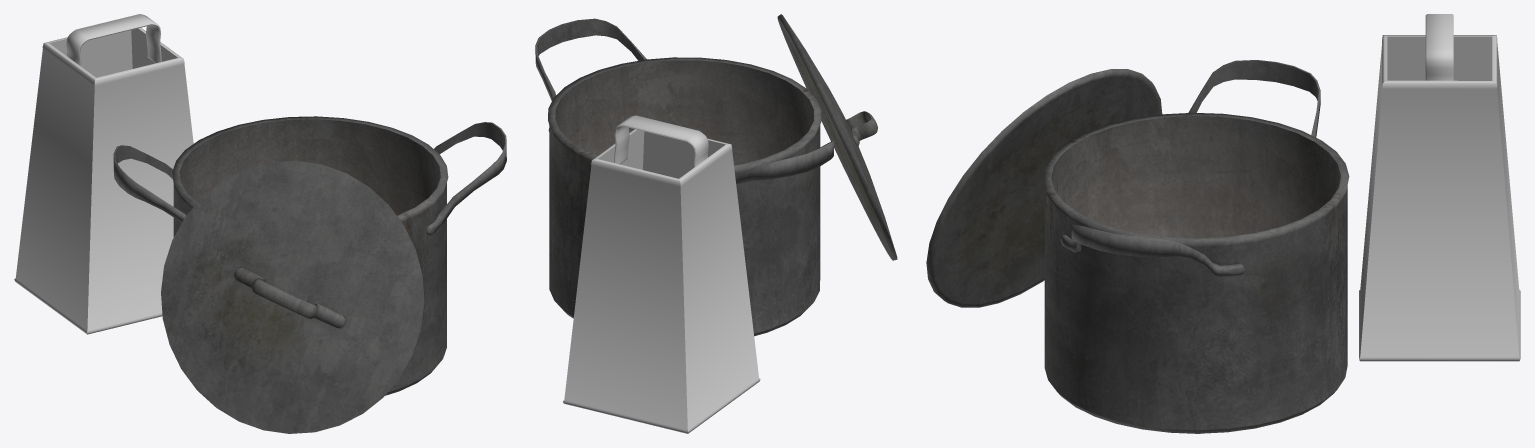
The model's file is cozinha7.fbx.
The picture shows the model from 3 angles, left to right: view 1: azimuth 30°, elevation 25°; view 2: azimuth 150°, elevation 25°; view 3: azimuth 270°, elevation 25°; orthographic projection. The views are drawn at different scales.
Visible parts, largest first — view 1: SM_Pot_03_Top.001, SM_CheeseGrater, SM_Pot_03.001; view 2: SM_CheeseGrater, SM_Pot_03.001, SM_Pot_03_Top.001; view 3: SM_Pot_03.001, SM_CheeseGrater, SM_Pot_03_Top.001.
Part boxes in pixels (x1,y1,x2,y2): SM_Pot_03_Top.001: (161,161,424,433); SM_CheeseGrater: (14,14,193,334); SM_Pot_03.001: (113,116,506,395); SM_CheeseGrater: (563,115,760,433); SM_Pot_03.001: (535,18,833,336); SM_Pot_03_Top.001: (777,14,897,260); SM_Pot_03.001: (1043,60,1349,433); SM_CheeseGrater: (1359,14,1520,361); SM_Pot_03_Top.001: (926,69,1162,307).
Size of the model in its own units: 46.64 by 35.21 by 63.97.
